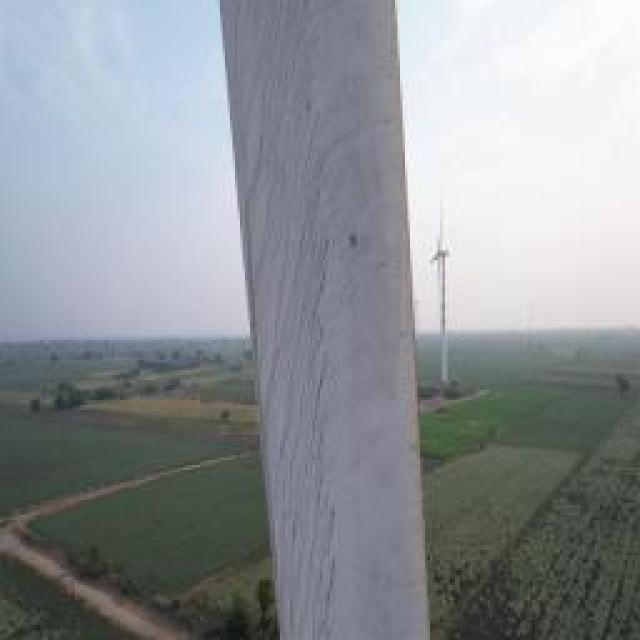Dirt: (221, 1, 431, 640)
Pin Hole: (345, 228, 365, 250)
